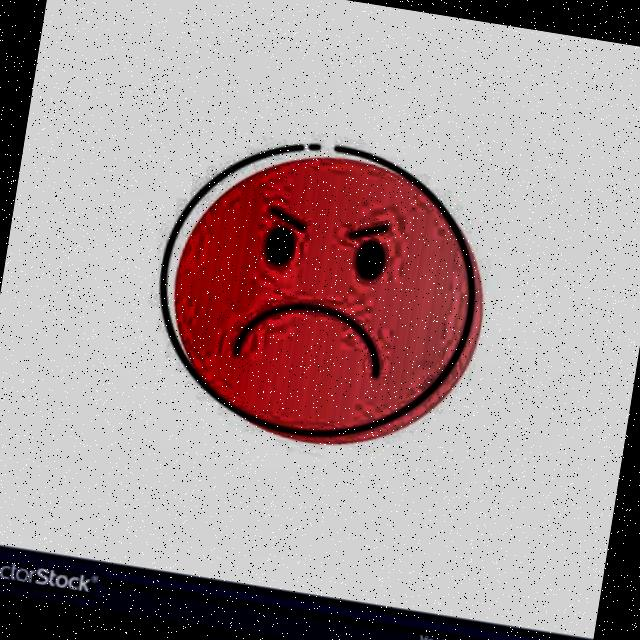angry: (119, 108, 529, 488)
